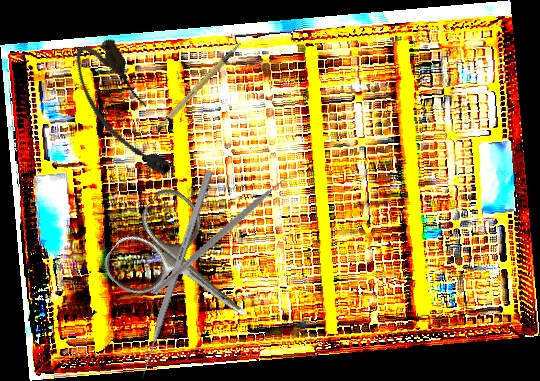Cannula: (63, 32, 182, 191)
Chopper: (150, 148, 303, 326)
Iris Scissors: (96, 181, 279, 359)
Pusher: (137, 169, 214, 381)
Scalpel Handle: (145, 41, 254, 134)
